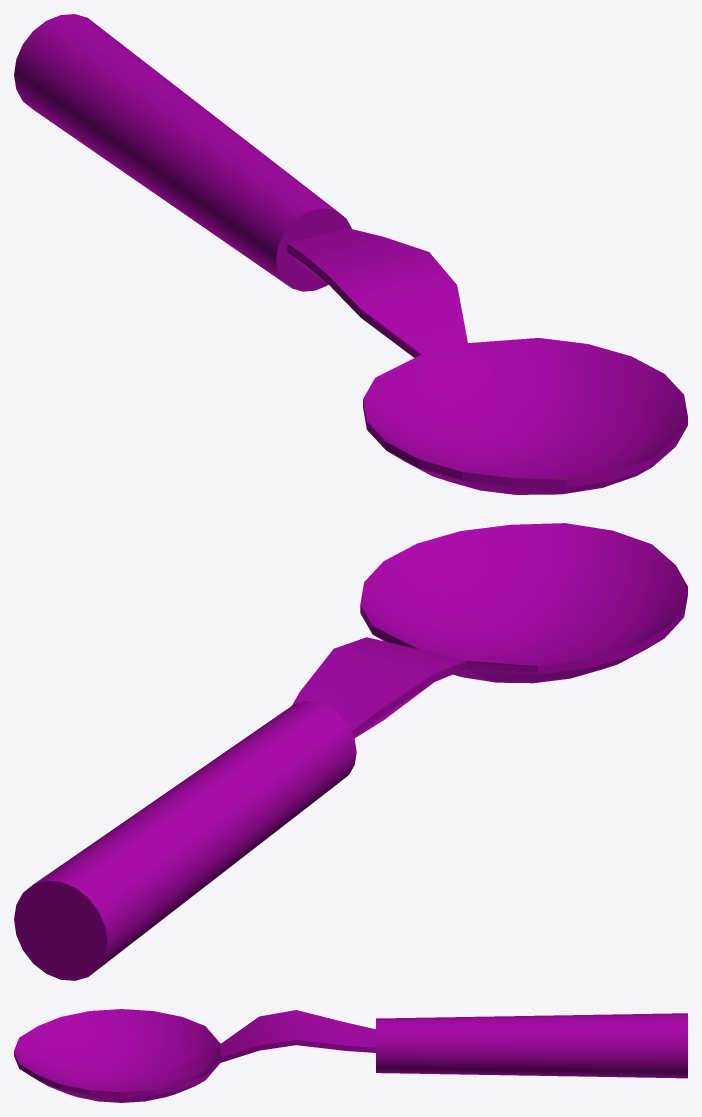
File: Spoon.fbx
The picture shows the model from 3 angles, top to bottom: view 1: azimuth 30°, elevation 25°; view 2: azimuth 150°, elevation 25°; view 3: azimuth 270°, elevation 25°; orthographic projection. The views are drawn at different scales.
Visible parts, largest first — view 1: polySurface1; view 2: polySurface1; view 3: polySurface1.
Boxes of the visible parts, x1,y1,x2,y2 form: polySurface1: (14,14,687,494); polySurface1: (14,523,687,980); polySurface1: (14,1009,687,1102).
Size of the model in its own units: 1.19 by 0.4706 by 4.09.
